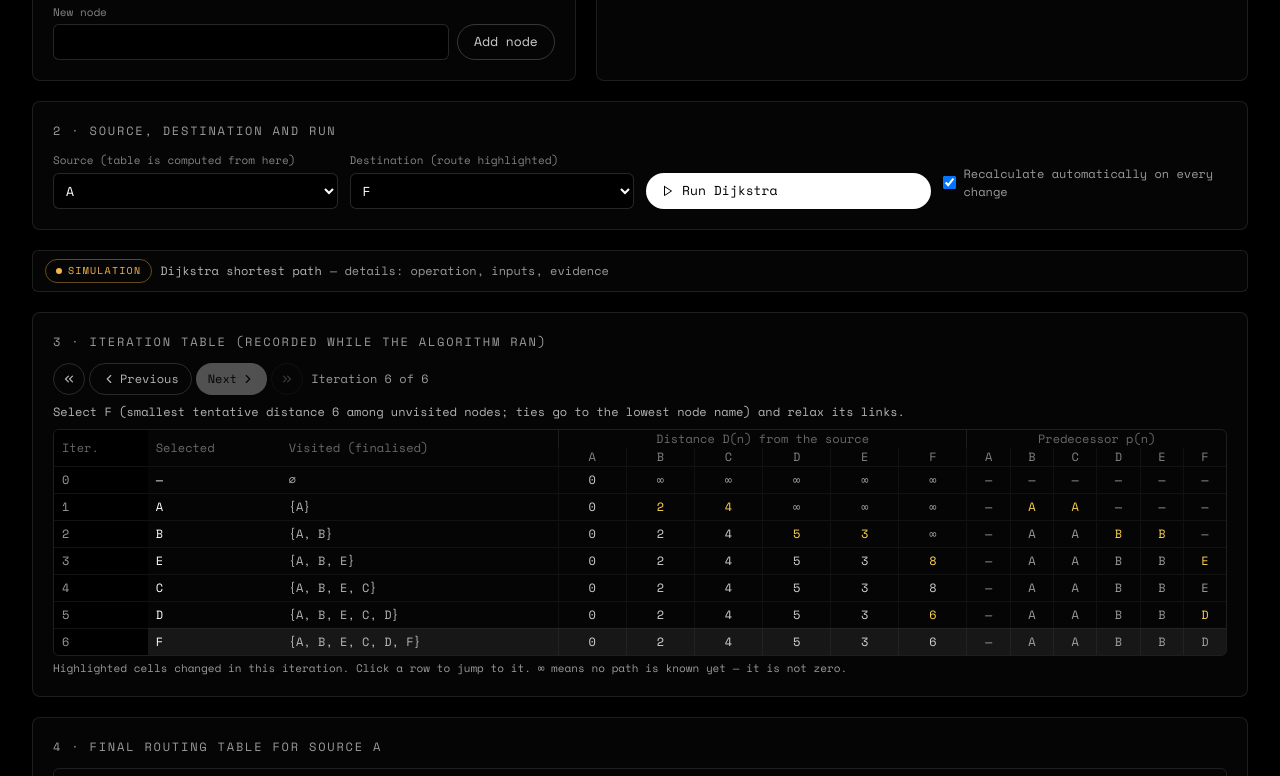
Test: Dijkstra lab — final routing table › is withheld until the algorithm has finished
(page scrolled)
Expected: the table named "Dijkstra iteration table" is shown, [54, 430, 1226, 654]
Click the button named "First iteration".
click(69, 378)  # box [53, 362, 85, 394]
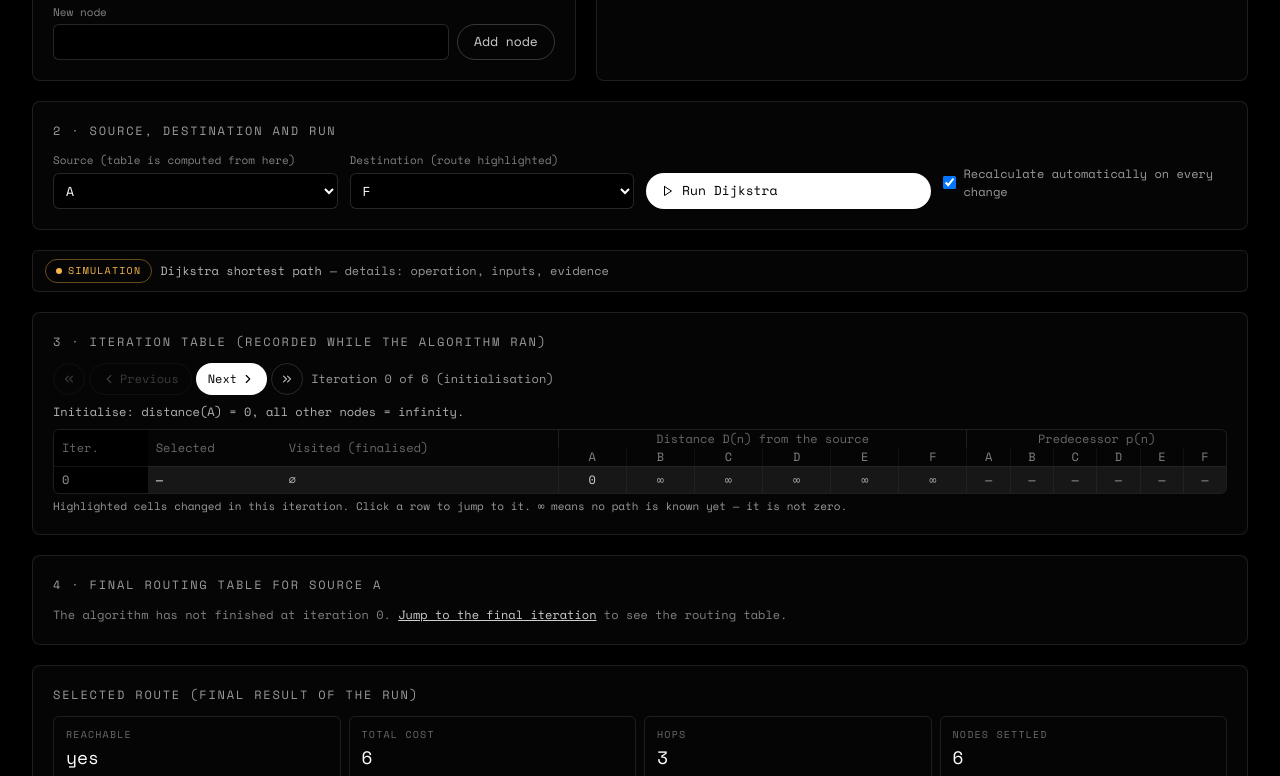
Result: the text "has not finished at iteration 0" is shown at [53, 606, 788, 624]
Click the button "Jump to the final iteration".
click(497, 615)  # box [398, 606, 596, 624]
(page scrolled)
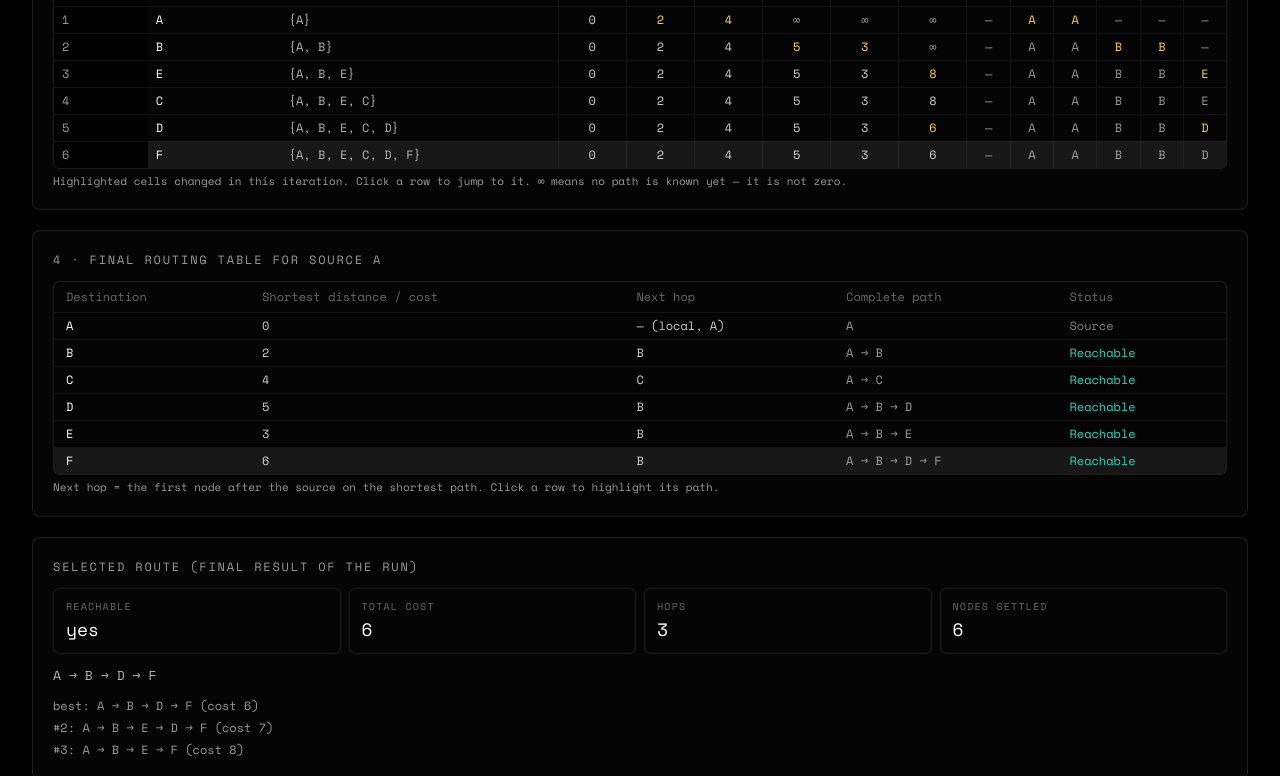
Result: the table named "Final routing table" is shown at [54, 282, 1226, 474]
